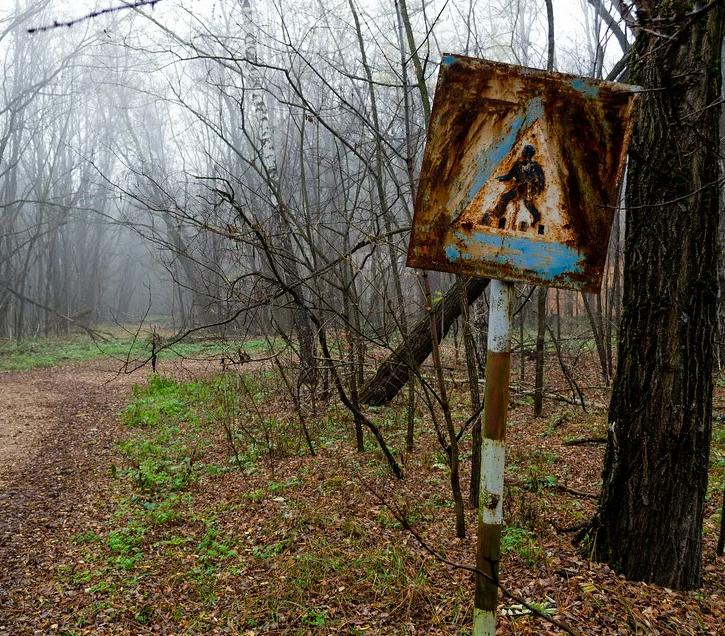obstructed_road_sign: (402, 55, 638, 291)
